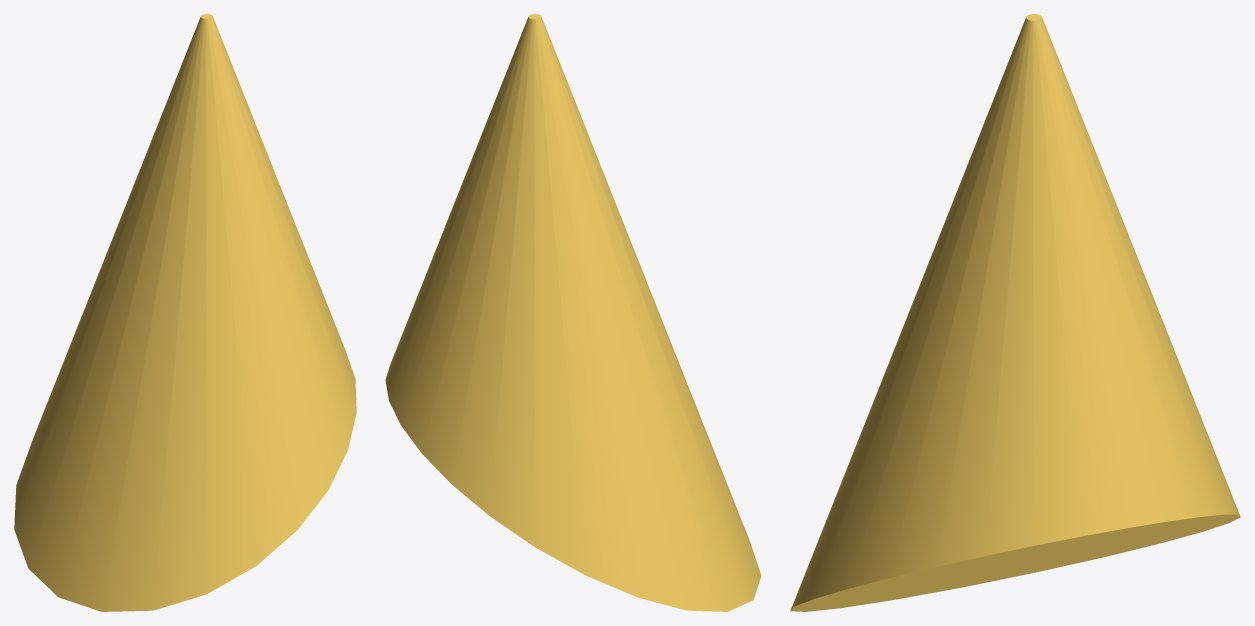
The model's file is Cono_Oblicuo_BaseB.fbx.
The picture shows the model from 3 angles, left to right: view 1: azimuth 30°, elevation 25°; view 2: azimuth 150°, elevation 25°; view 3: azimuth 270°, elevation 25°; orthographic projection. The views are drawn at different scales.
Parts seen in each view (by area): view 1: Difference2; view 2: Difference2; view 3: Difference2.
Boxes of the visible parts, x1=… form: Difference2: x1=14, y1=14, x2=356, y2=611; Difference2: x1=385, y1=14, x2=761, y2=611; Difference2: x1=790, y1=14, x2=1240, y2=611.
Bounding box in the file's own units: 57.4 × 94.77 × 56.59.
